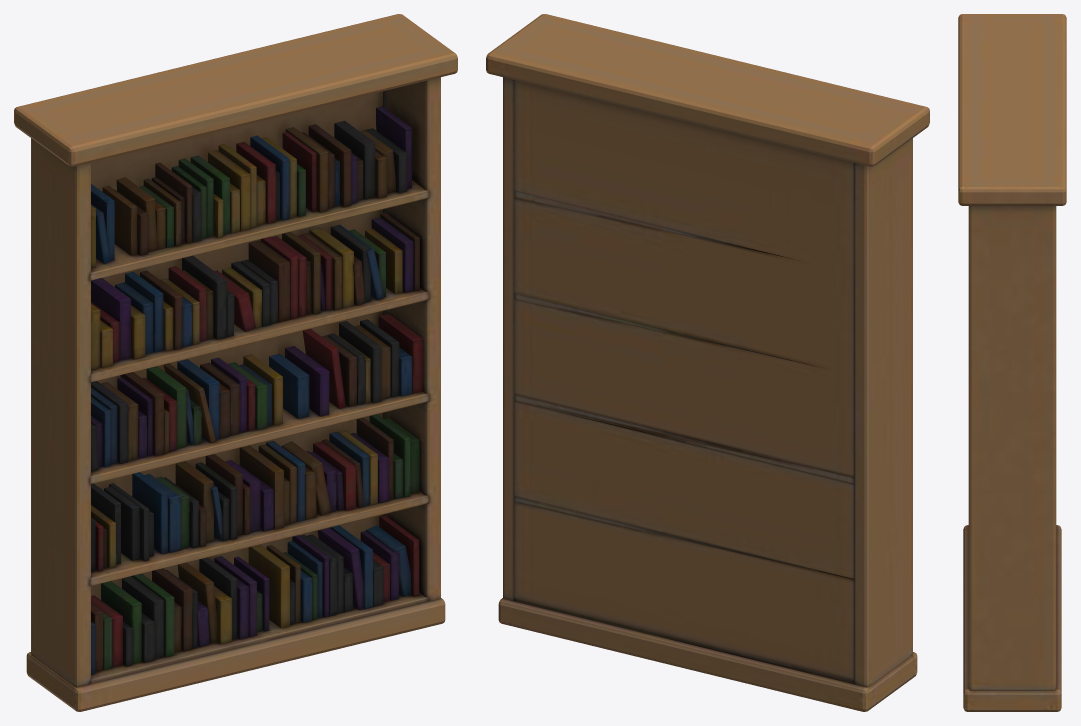
Rendered from dg_estante_livros.glb.
3 views of the same model, side by side, from view 1: azimuth 30°, elevation 25°; view 2: azimuth 150°, elevation 25°; view 3: azimuth 270°, elevation 25° (orthographic). The views are drawn at different scales.
Visible parts, largest first — view 1: dg_estante_livros_tronco; view 2: dg_estante_livros_tronco; view 3: dg_estante_livros_tronco.
Part boxes in pixels (x1,y1,x2,y2): dg_estante_livros_tronco: (14,14,457,711); dg_estante_livros_tronco: (486,14,929,711); dg_estante_livros_tronco: (958,14,1066,711).
Size of the model in its own units: 2 by 2.8 by 0.52.
1 material, 1 textured.
